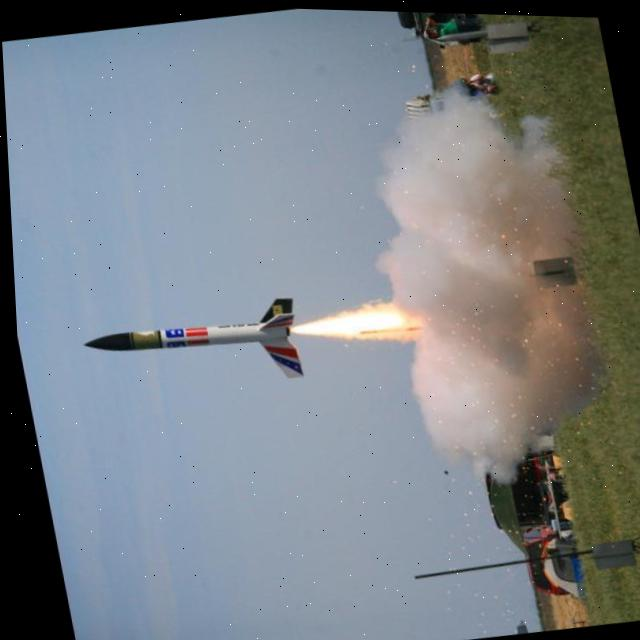missile: (75, 285, 312, 410)
